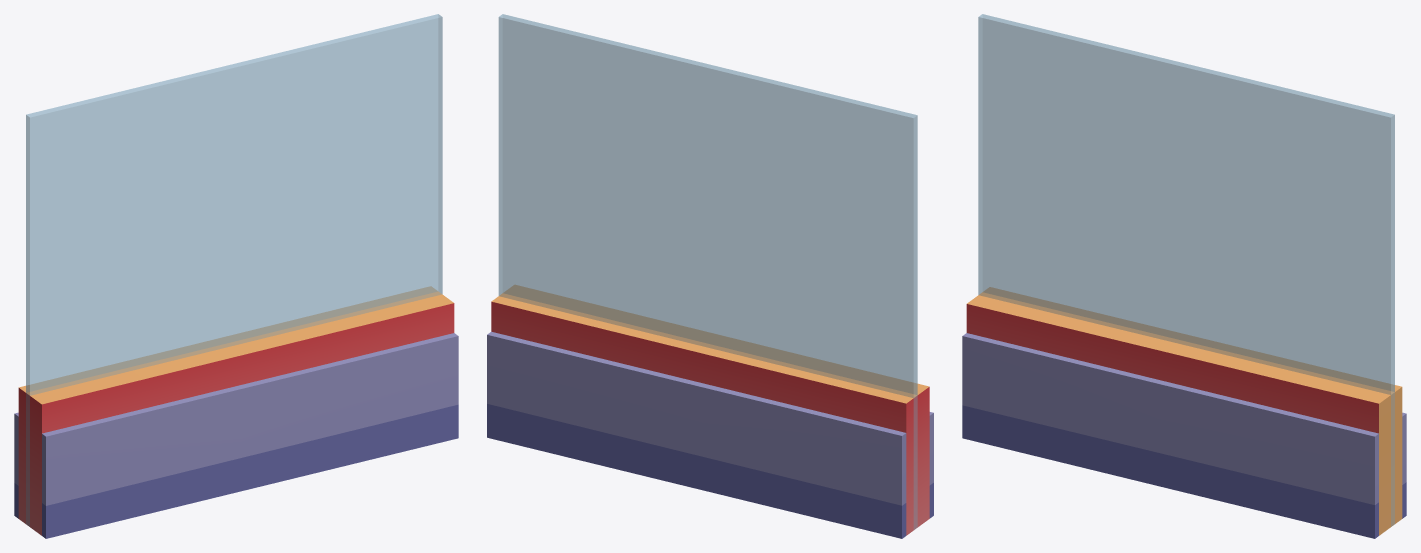
File: M1_Wall_03_Glass.fbx
The picture shows the model from 3 angles, left to right: view 1: azimuth 30°, elevation 25°; view 2: azimuth 150°, elevation 25°; view 3: azimuth 330°, elevation 25°; orthographic projection.
Parts seen in each view (by area): view 1: M1_Wall_03_Glass; view 2: M1_Wall_03_Glass; view 3: M1_Wall_03_Glass.
Boxes of the visible parts, box(x1,y1,x2,y2) form: M1_Wall_03_Glass: box(14, 14, 458, 538); M1_Wall_03_Glass: box(487, 14, 933, 538); M1_Wall_03_Glass: box(962, 14, 1406, 538).
Size of the model in its own units: 400 by 380 by 53.06.
